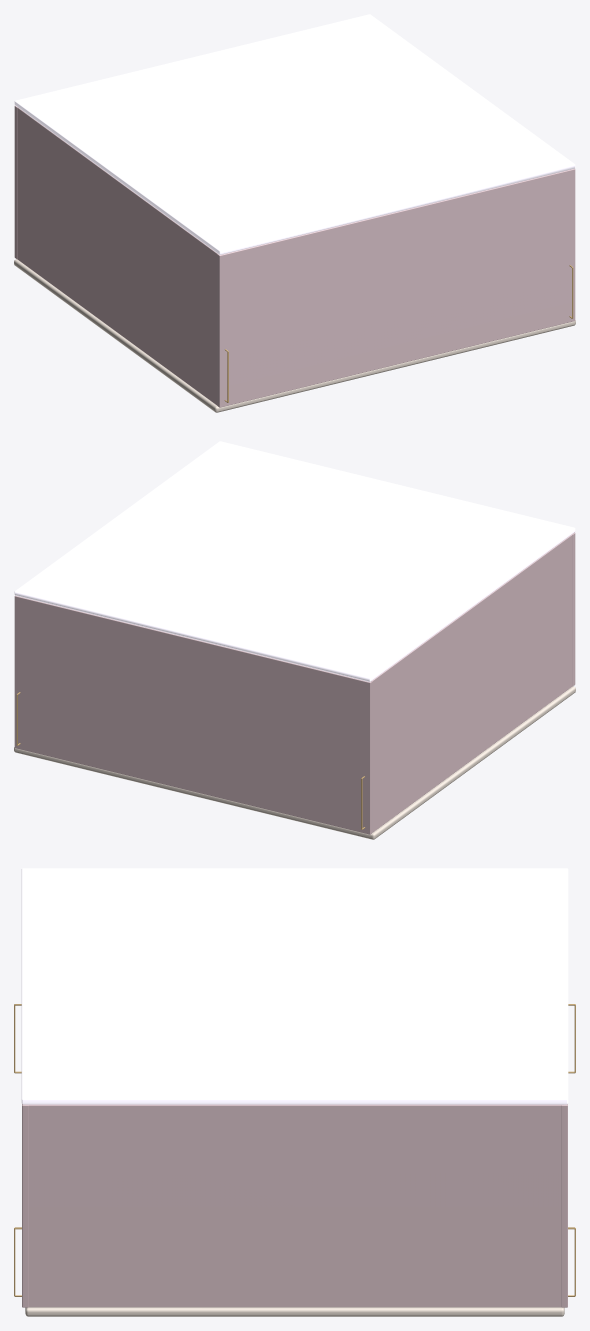
The model's file is kitty-heaven.glb.
The picture shows the model from 3 angles, top to bottom: view 1: azimuth 30°, elevation 25°; view 2: azimuth 150°, elevation 25°; view 3: azimuth 270°, elevation 25°; orthographic projection. The views are drawn at different scales.
Parts seen in each view (by area): view 1: Palace_Petal pink plaster, Palace_Clouds soft ivory, Palace_Pearl porcelain; view 2: Palace_Petal pink plaster, Palace_Clouds soft ivory, Palace_Pearl porcelain; view 3: Palace_Clouds soft ivory, Palace_Petal pink plaster, Palace_Pearl porcelain, Palace_Champagne gold.
Boxes of the visible parts, x1,y1,x2,y2 form: Palace_Petal pink plaster: [14, 105, 575, 407]; Palace_Clouds soft ivory: [14, 14, 575, 254]; Palace_Pearl porcelain: [14, 259, 575, 412]; Palace_Petal pink plaster: [14, 532, 575, 834]; Palace_Clouds soft ivory: [14, 441, 575, 681]; Palace_Pearl porcelain: [14, 686, 575, 839]; Palace_Clouds soft ivory: [21, 868, 568, 1104]; Palace_Petal pink plaster: [22, 1104, 567, 1307]; Palace_Pearl porcelain: [25, 1307, 564, 1316]; Palace_Champagne gold: [14, 1004, 575, 1296].
Size of the model in its own units: 14.4 by 6.23 by 14.6.
